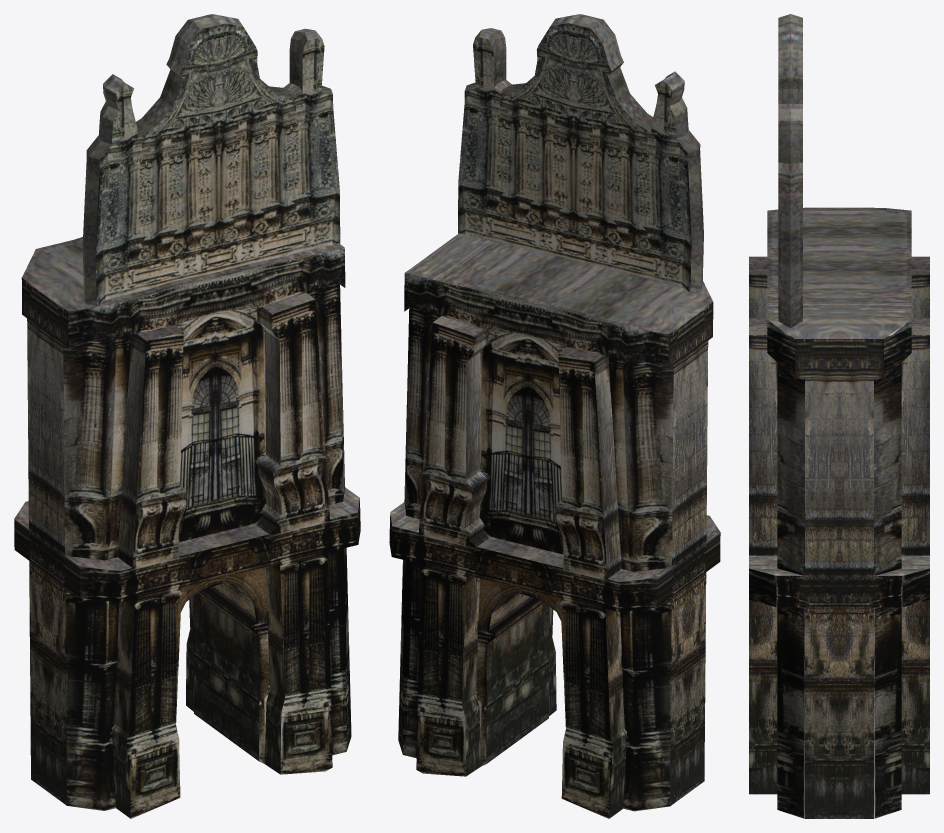
The model's file is gate.FBX.
3 views of the same model, side by side, from view 1: azimuth 30°, elevation 25°; view 2: azimuth 150°, elevation 25°; view 3: azimuth 270°, elevation 25° (orthographic). The views are drawn at different scales.
Visible parts, largest first — view 1: gate; view 2: gate; view 3: gate.
Boxes of the visible parts, x1,y1,x2,y2 form: gate: (14, 14, 360, 818); gate: (389, 14, 720, 818); gate: (749, 14, 929, 818).
Bounding box in the file's own units: 129 × 324 × 73.08.
1 material, 1 textured.
